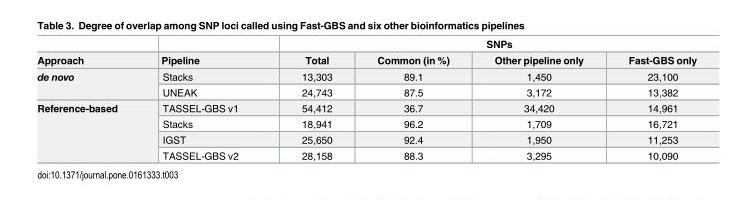table: (36, 37, 696, 160)
table column: (471, 37, 605, 160), (138, 37, 269, 160), (354, 37, 471, 160), (36, 37, 138, 160), (605, 37, 696, 160), (269, 37, 354, 160)
table column header: (36, 37, 696, 67)
table row: (36, 67, 696, 84), (36, 51, 696, 67), (36, 99, 696, 115), (36, 115, 696, 131), (36, 131, 696, 147), (36, 84, 696, 99), (36, 37, 696, 51), (36, 147, 696, 160)
table spanning cell: (36, 99, 138, 160), (269, 37, 696, 51), (138, 37, 269, 67), (36, 67, 138, 99), (36, 37, 138, 67)
